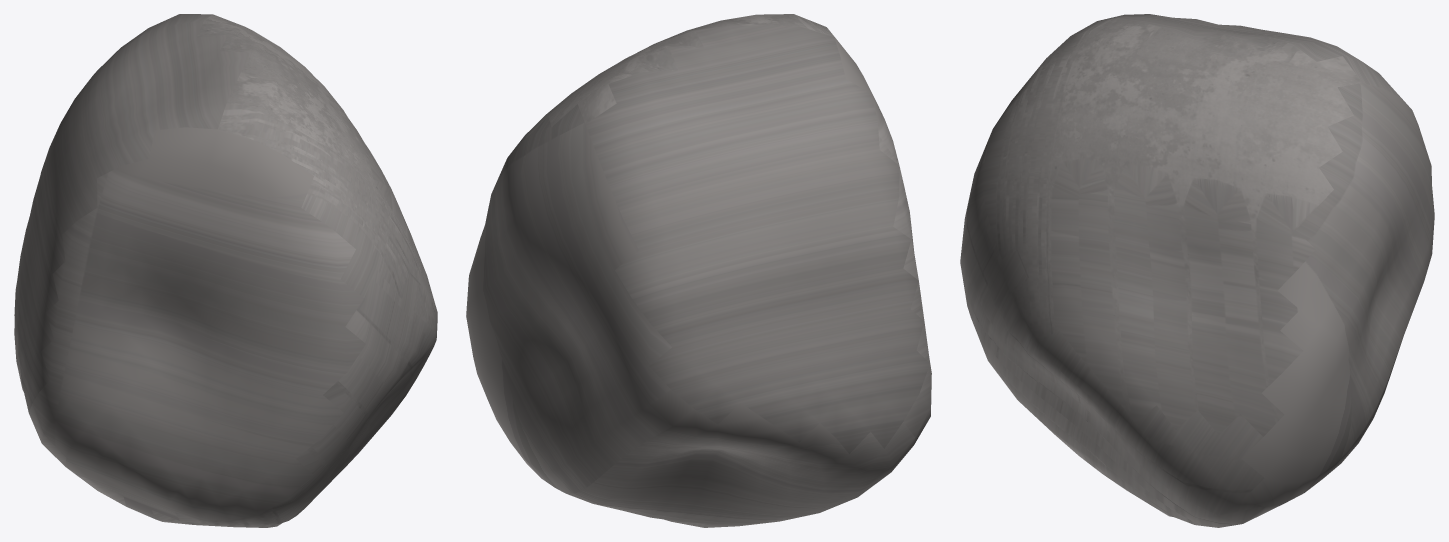
File: Rocks.fbx
The picture shows the model from 3 angles, left to right: view 1: azimuth 30°, elevation 25°; view 2: azimuth 150°, elevation 25°; view 3: azimuth 270°, elevation 25°; orthographic projection. The views are drawn at different scales.
Parts seen in each view (by area): view 1: Rock; view 2: Rock; view 3: Rock.
Boxes of the visible parts, x1,y1,x2,y2 form: Rock: [14, 14, 437, 527]; Rock: [466, 14, 931, 527]; Rock: [960, 14, 1434, 527].
Size of the model in its own units: 266 by 309 by 284.
